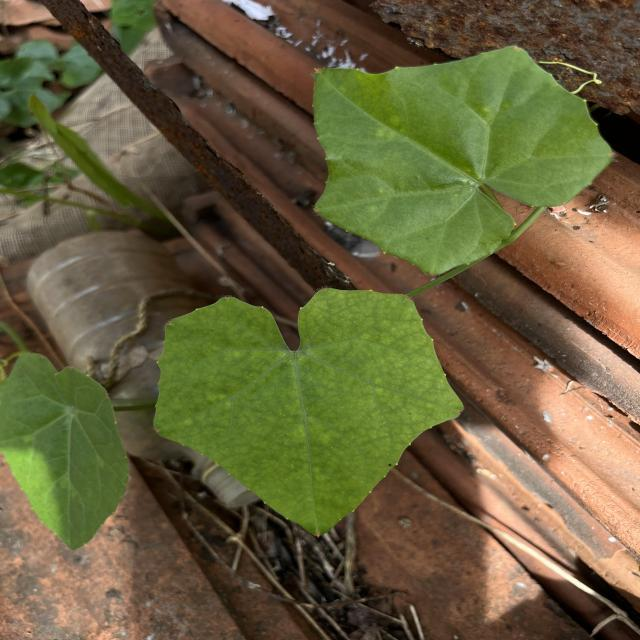Coccinia grandis: (154, 286, 466, 540), (310, 43, 618, 279)
